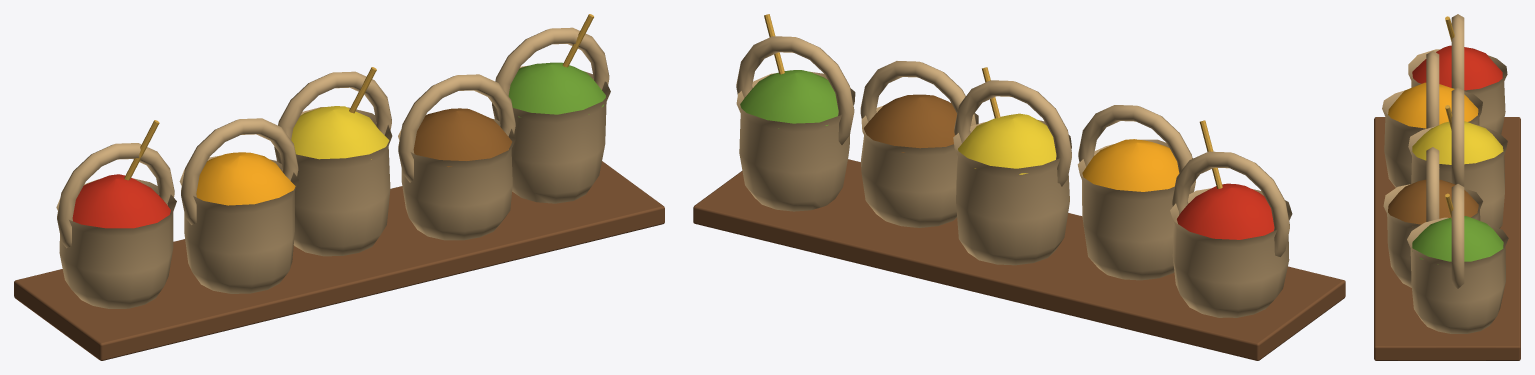
File: mk_spice_sacks.glb
3 renders of one model, left to right at view 1: azimuth 30°, elevation 25°; view 2: azimuth 150°, elevation 25°; view 3: azimuth 270°, elevation 25°, orthographic. The views are drawn at different scales.
Visible parts, largest first — view 1: mk_spice_sacks_body; view 2: mk_spice_sacks_body; view 3: mk_spice_sacks_body.
Part boxes in pixels (bbox=[...]): mk_spice_sacks_body: bbox=[14, 14, 664, 360]; mk_spice_sacks_body: bbox=[693, 14, 1345, 360]; mk_spice_sacks_body: bbox=[1374, 14, 1520, 360].
Size of the model in its own units: 2.6 by 0.8149 by 0.7.
